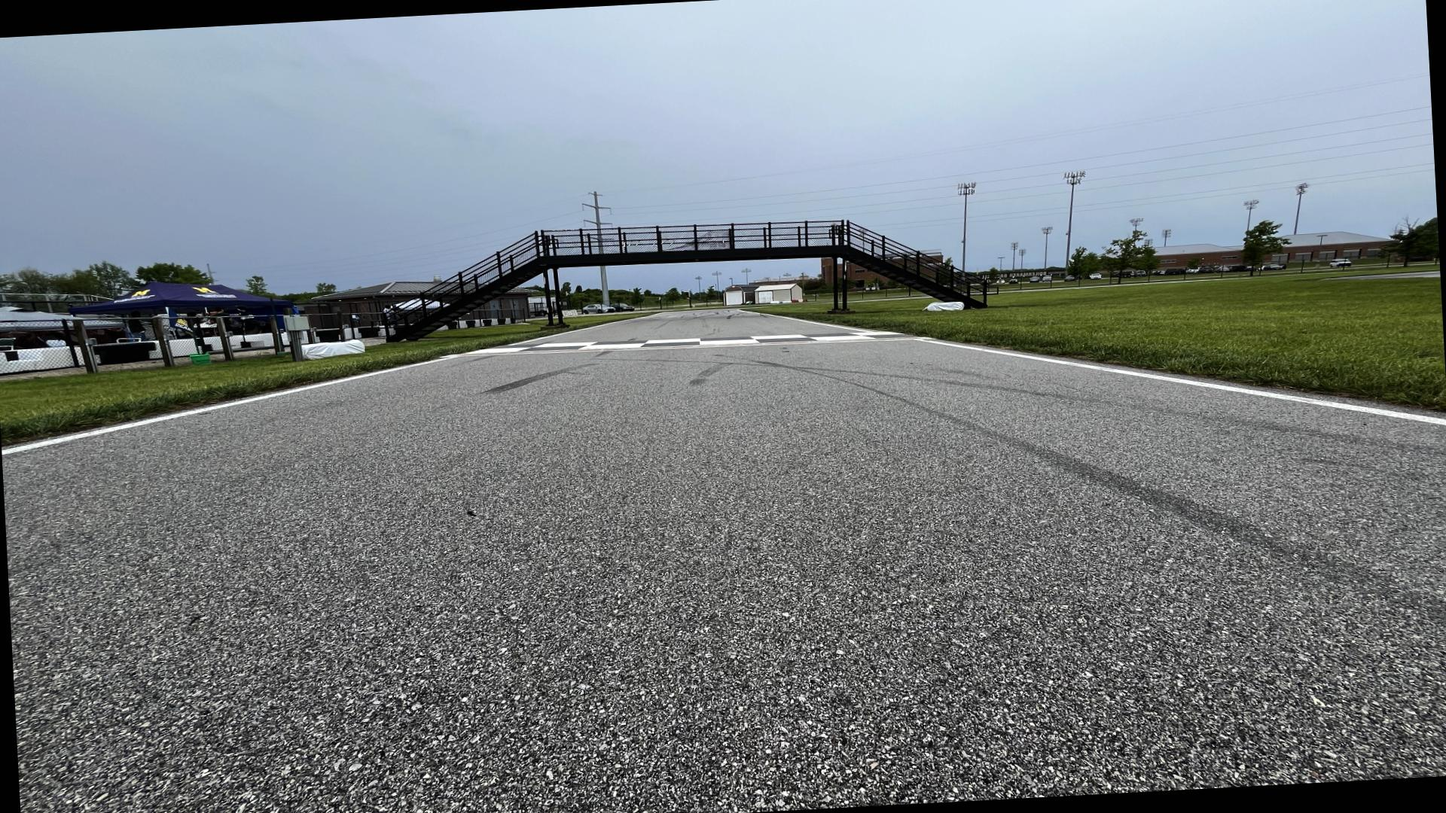white-line: (917, 341, 1445, 427), (2, 356, 453, 456), (508, 310, 698, 346), (735, 310, 872, 333)
